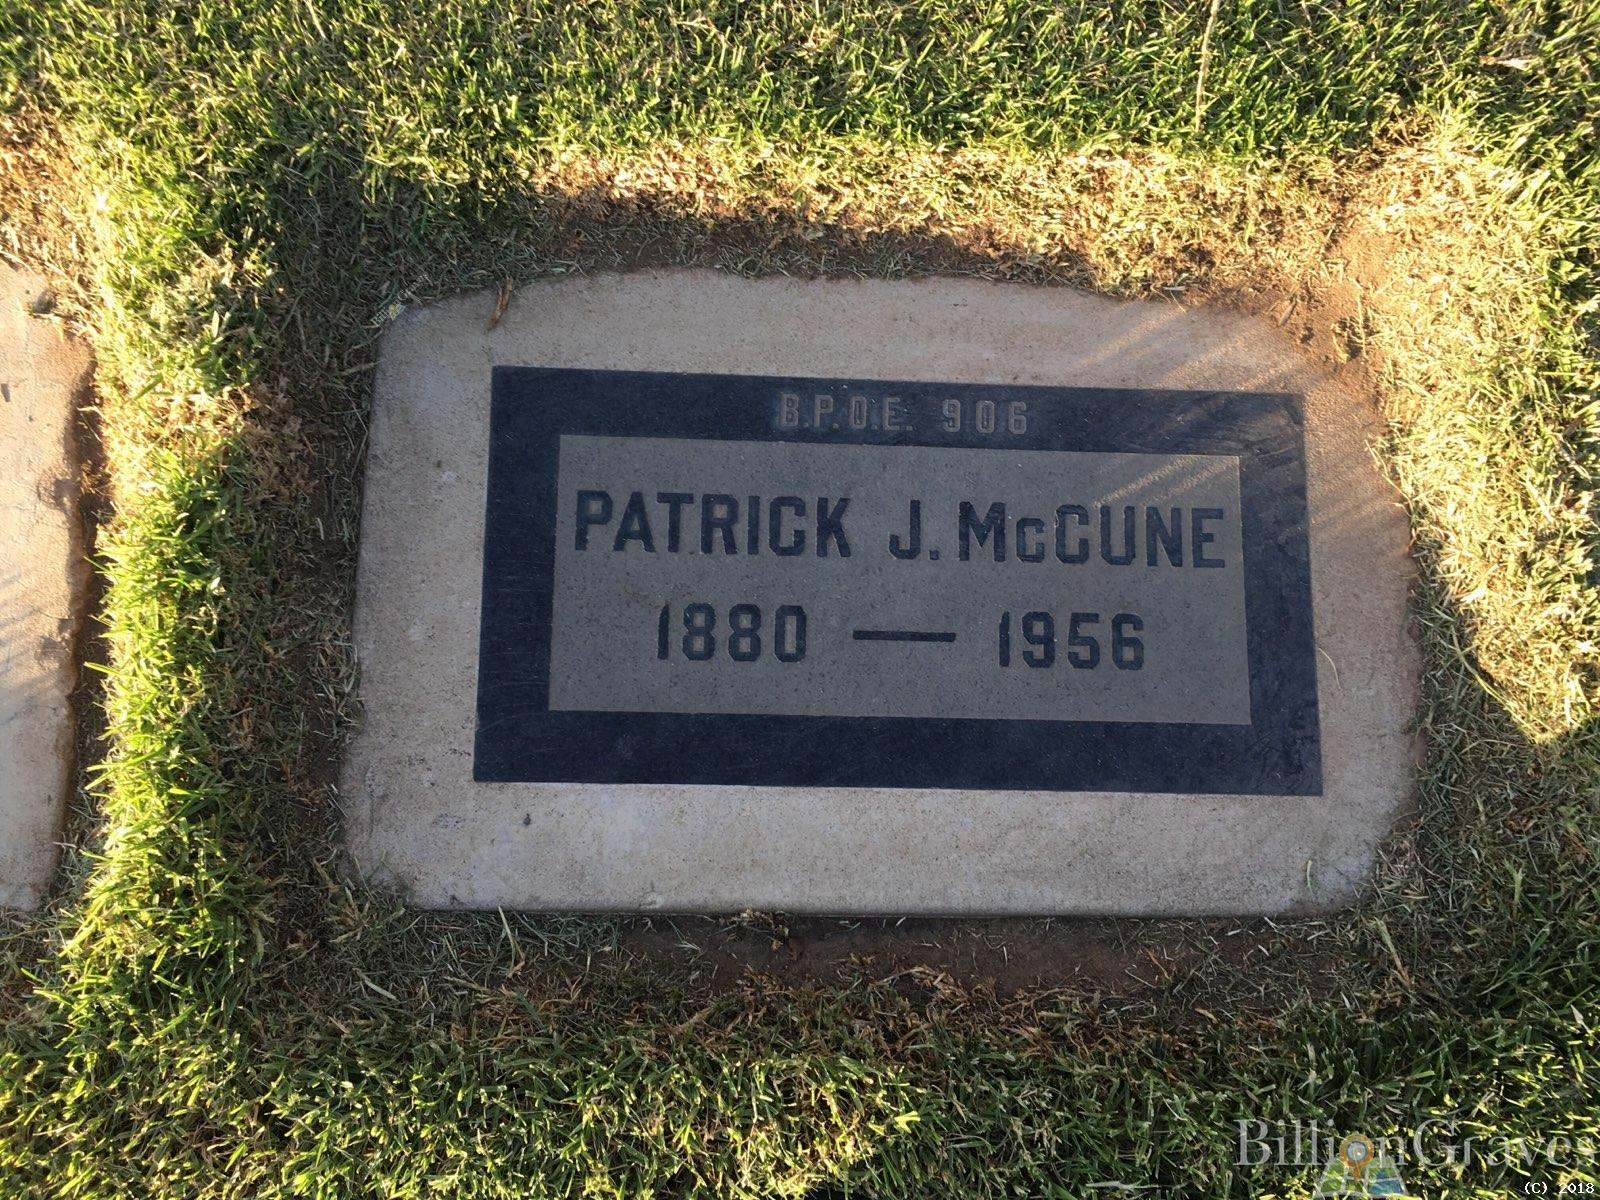flat: (341, 246, 1443, 925)
